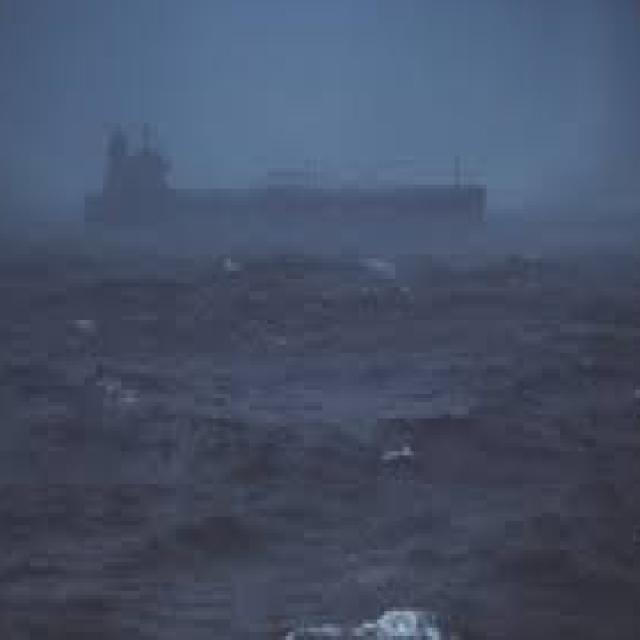cargoship: (90, 99, 492, 262)
